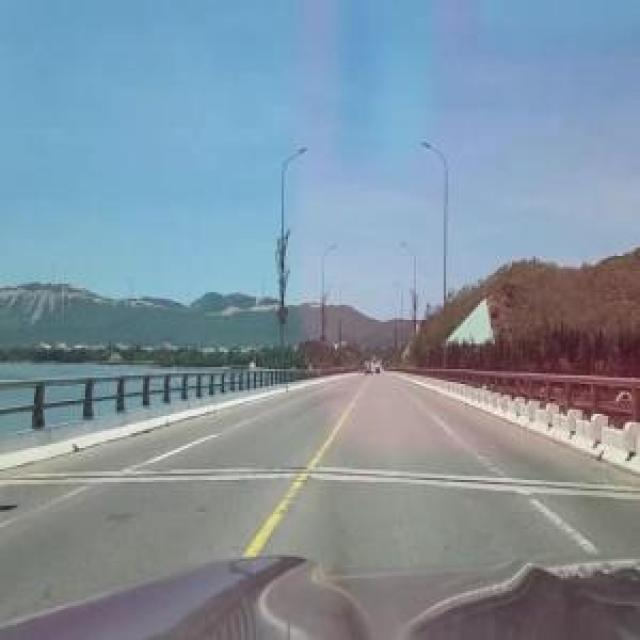clear-road: (0, 374, 640, 624)
